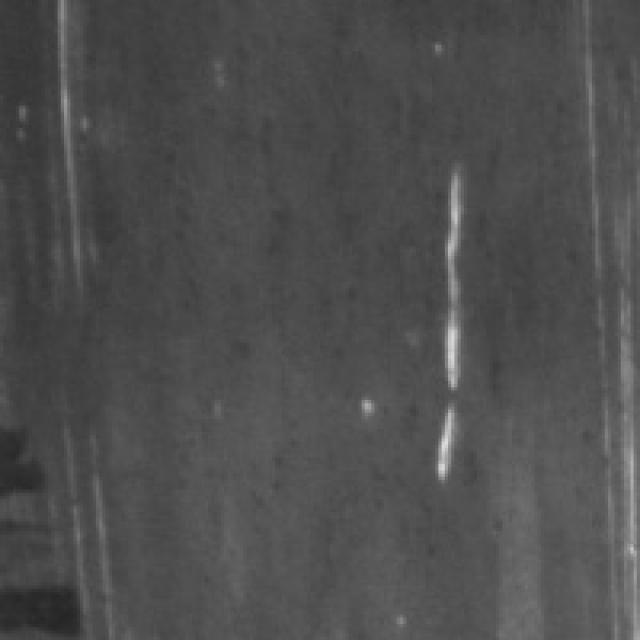inclusion: (7, 570, 86, 636)
scratches: (592, 7, 640, 586), (419, 163, 474, 493), (61, 436, 125, 630), (48, 0, 90, 272)
